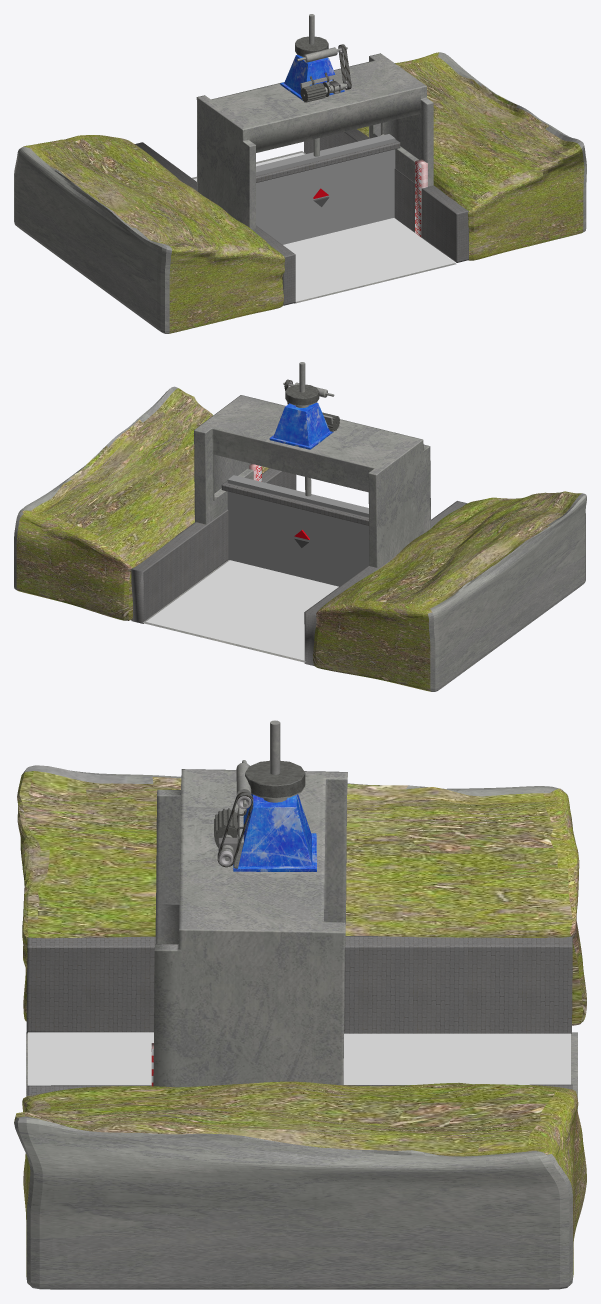
File: gate_8_0922_16.glb
The picture shows the model from 3 angles, top to bottom: view 1: azimuth 30°, elevation 25°; view 2: azimuth 150°, elevation 25°; view 3: azimuth 270°, elevation 25°; orthographic projection. The views are drawn at different scales.
Parts seen in each view (by area): view 1: 立方体, 立方体.001, 平面, dangban_ZA, 平面.006, cebian2, cebian2.001, dangban_2, 立方体_2, 平面.002, 平面.004; view 2: 立方体, 立方体.001, 平面, dangban_ZA, 平面.003, cebian2, 立方体_2, cebian2.001, dangban_2, 平面.004; view 3: 立方体.001, 立方体, 平面, cebian2.001, 平面.003, 平面.006, 立方体_2, dangban_2.
Boxes of the visible parts, x1,y1,x2,y2 form: 立方体: (14, 135, 285, 333); 立方体.001: (357, 52, 586, 260); 平面: (196, 53, 433, 229); dangban_ZA: (256, 134, 395, 244); 平面.006: (283, 218, 455, 301); cebian2: (304, 129, 468, 262); cebian2.001: (135, 142, 295, 305); dangban_2: (295, 14, 347, 99); 立方体_2: (280, 55, 344, 100); 平面.002: (415, 159, 427, 237); 平面.004: (192, 151, 456, 303); 立方体: (313, 491, 586, 691); 立方体.001: (14, 386, 269, 620); 平面: (194, 395, 430, 567); dangban_ZA: (227, 475, 369, 586); 平面.003: (146, 560, 338, 660); cebian2: (131, 468, 296, 623); 立方体_2: (269, 402, 333, 449); cebian2.001: (304, 501, 467, 665); dangban_2: (283, 362, 334, 431); 平面.004: (143, 560, 305, 662); 立方体.001: (14, 1081, 586, 1289); 立方体: (17, 765, 586, 1025); 平面: (153, 769, 347, 1087); cebian2.001: (26, 936, 572, 1033); 平面.003: (343, 1033, 570, 1084); 平面.006: (28, 1032, 153, 1085); 立方体_2: (233, 794, 316, 871); dangban_2: (233, 720, 305, 868).
Size of the model in its own units: 79.4 by 38.95 by 51.74.
Materials: 11 (7 with a texture image).
